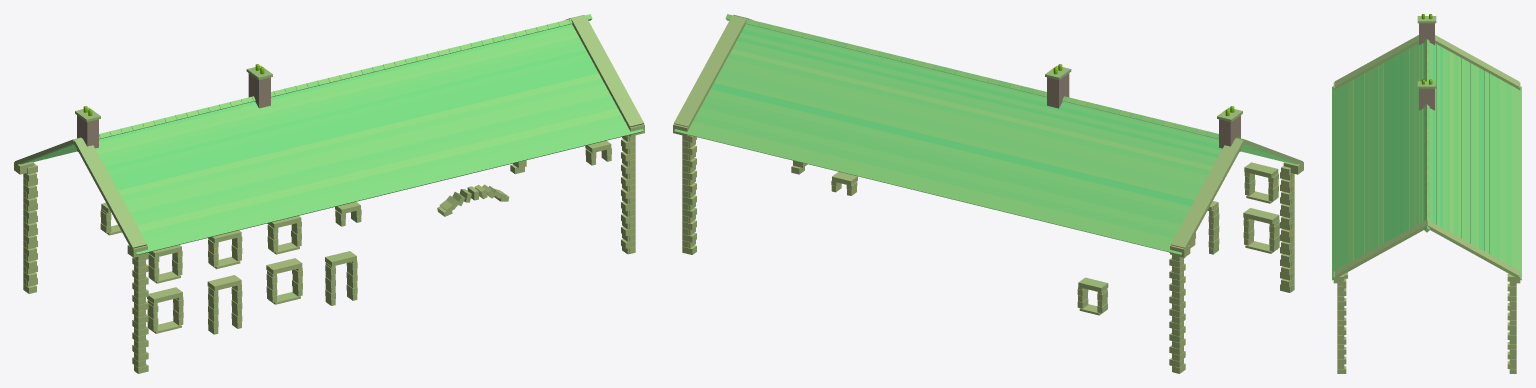
Rendered from SM_Bld_152_Stone.glb.
3 views of the same model, side by side, from view 1: azimuth 30°, elevation 25°; view 2: azimuth 150°, elevation 25°; view 3: azimuth 270°, elevation 25° (orthographic). The views are drawn at different scales.
Parts seen in each view (by area): view 1: SM_Bld_152_Stone; view 2: SM_Bld_152_Stone; view 3: SM_Bld_152_Stone.
Part boxes in pixels (left/top/right/bottom): SM_Bld_152_Stone: left=14, top=14, right=644, bottom=373; SM_Bld_152_Stone: left=673, top=14, right=1303, bottom=373; SM_Bld_152_Stone: left=1332, top=14, right=1521, bottom=373.
Size of the model in its own units: 26 by 10.65 by 10.61.
